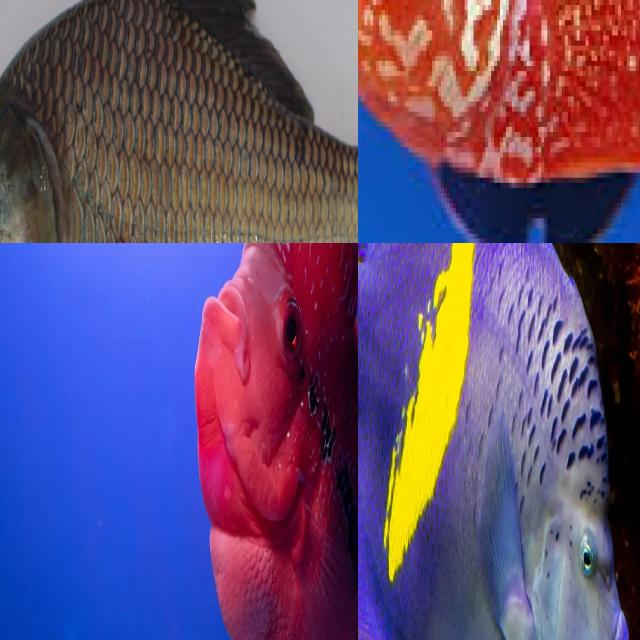fish: (388, 243, 640, 640), (0, 0, 358, 243), (209, 243, 358, 640), (358, 0, 640, 208)
